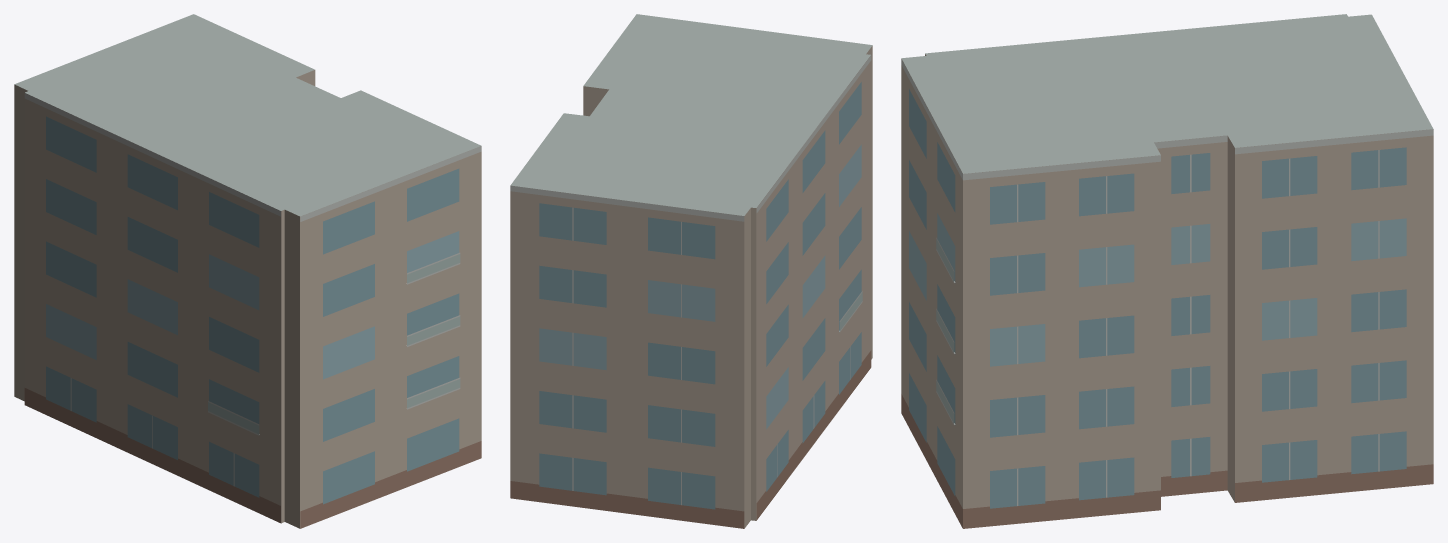
File: survey-upis-32664981.glb
The picture shows the model from 3 angles, left to right: view 1: azimuth 30°, elevation 25°; view 2: azimuth 150°, elevation 25°; view 3: azimuth 270°, elevation 25°; orthographic projection. The views are drawn at different scales.
Parts seen in each view (by area): view 1: survey-upis-32664981.tmp; view 2: survey-upis-32664981.tmp; view 3: survey-upis-32664981.tmp.
Boxes of the visible parts, bbox=[...] form: survey-upis-32664981.tmp: bbox=[14, 14, 481, 528]; survey-upis-32664981.tmp: bbox=[510, 14, 872, 528]; survey-upis-32664981.tmp: bbox=[901, 14, 1433, 528].
Bounding box in the file's own units: 12.96 × 13.4 × 18.22.
